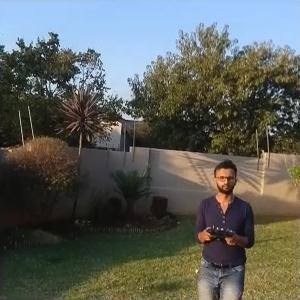follow: (191, 158, 256, 299)
